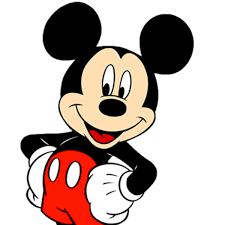mickeymouse: (14, 9, 178, 221)
